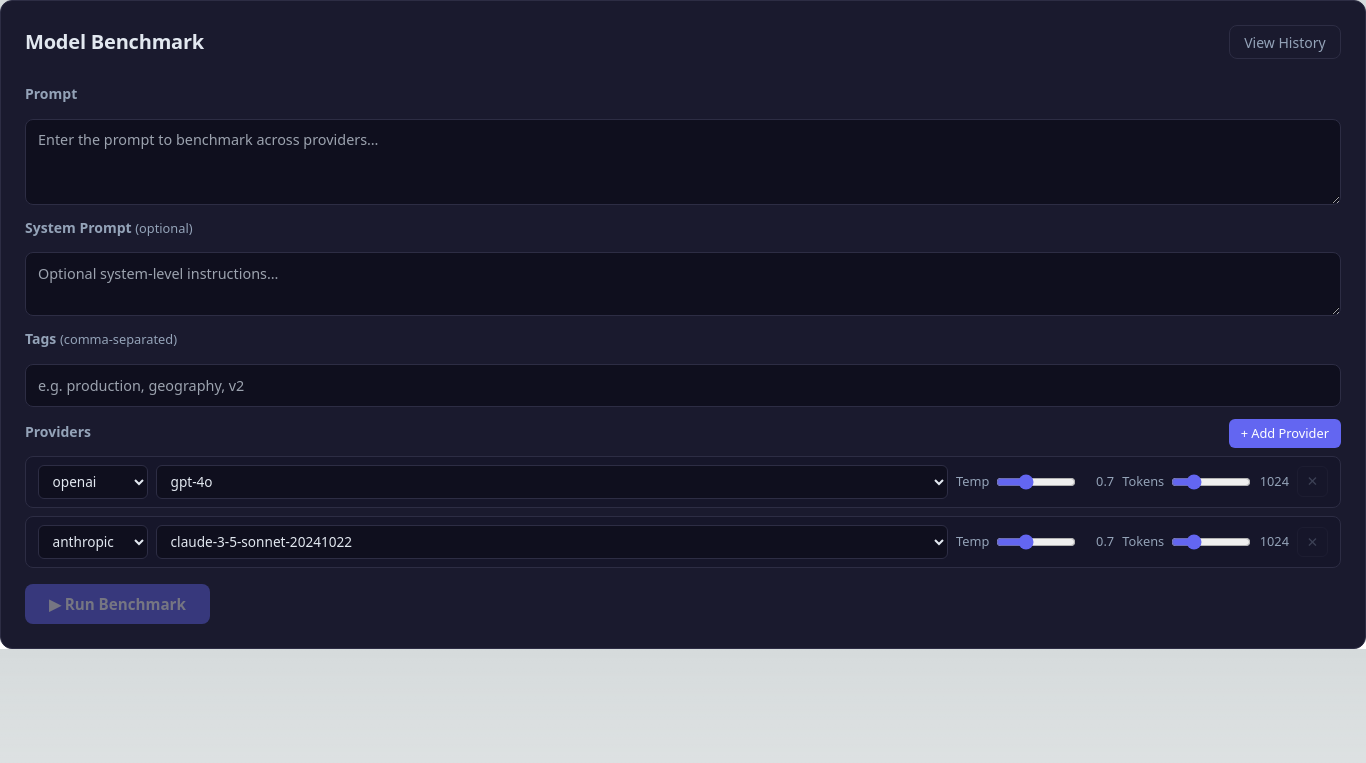
Test case: ModelBenchmarkPanel › history drawer › toggles history drawer open on button click
The width and height of the screenshot is (1366, 763).
Step 1. Click the button "View History" → (1285, 42), box [1229, 25, 1341, 59]
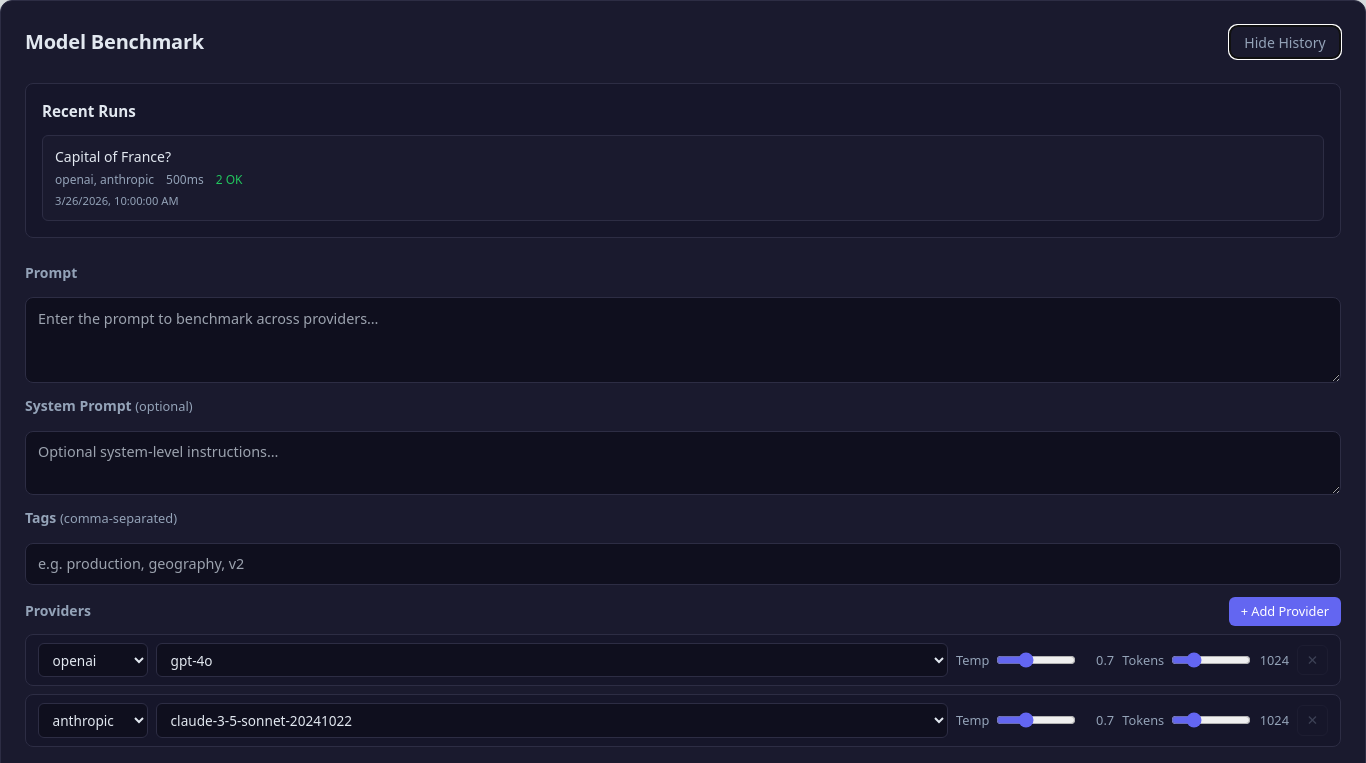
Expected: the element named "benchmark run history" is shown, [25, 83, 1341, 238]
